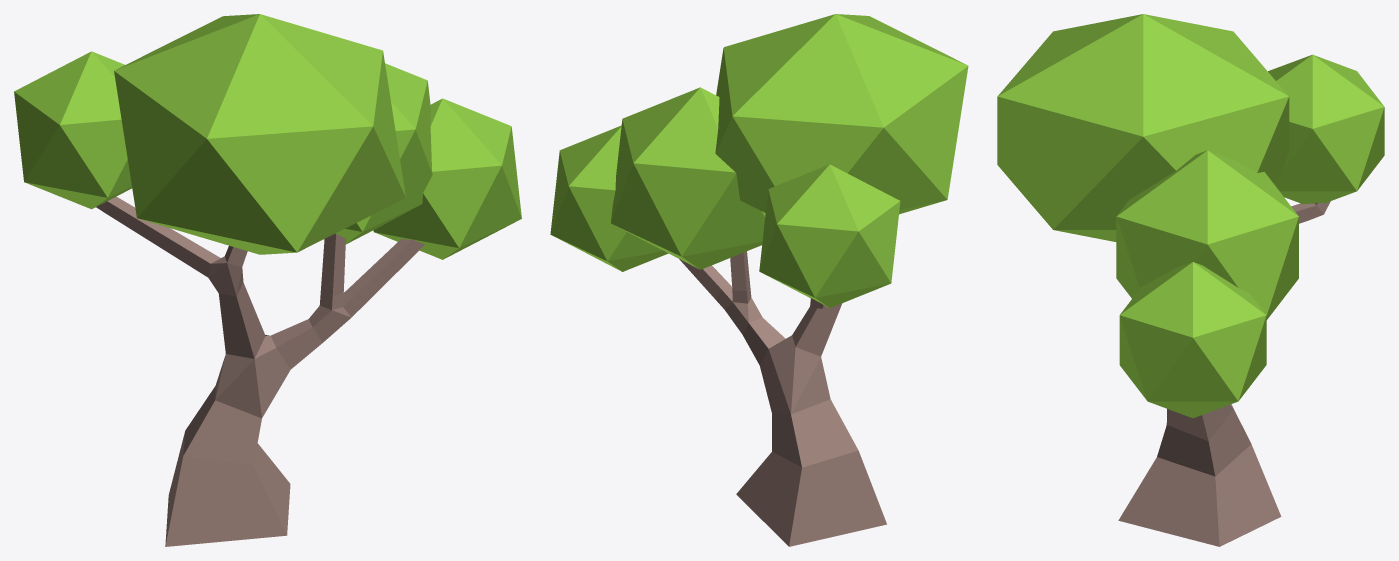
The model's file is pohon1.glb.
3 renders of one model, left to right at view 1: azimuth 30°, elevation 25°; view 2: azimuth 150°, elevation 25°; view 3: azimuth 270°, elevation 25°, orthographic. The views are drawn at different scales.
Parts seen in each view (by area): view 1: Icosphere.003, Cube, Icosphere.002, Icosphere, Icosphere.001; view 2: Icosphere.003, Cube, Icosphere.001, Icosphere.002, Icosphere; view 3: Icosphere.003, Icosphere.001, Icosphere, Cube, Icosphere.002.
Boxes of the visible parts, x1,y1,x2,y2 form: Icosphere.003: (114, 14, 405, 254); Cube: (96, 196, 424, 546); Icosphere.002: (14, 51, 132, 209); Icosphere: (373, 98, 521, 259); Icosphere.001: (324, 63, 432, 244); Icosphere.003: (715, 14, 968, 214); Cube: (679, 251, 886, 546); Icosphere.001: (611, 87, 765, 269); Icosphere.002: (759, 164, 900, 307); Icosphere: (550, 125, 668, 271); Icosphere.003: (997, 14, 1289, 241); Icosphere.001: (1116, 150, 1298, 319); Icosphere: (1119, 262, 1266, 418); Cube: (1118, 201, 1330, 546); Icosphere.002: (1268, 54, 1384, 203).
Bounding box in the file's own units: 4.75 × 5.63 × 3.86.
